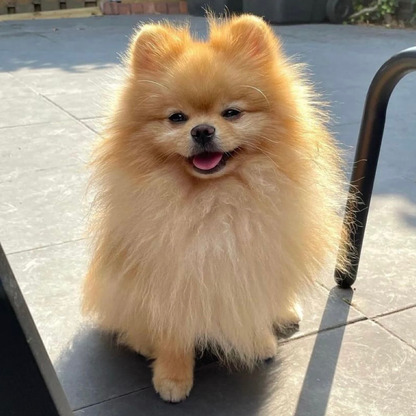Pomeranian: (83, 10, 357, 376)
